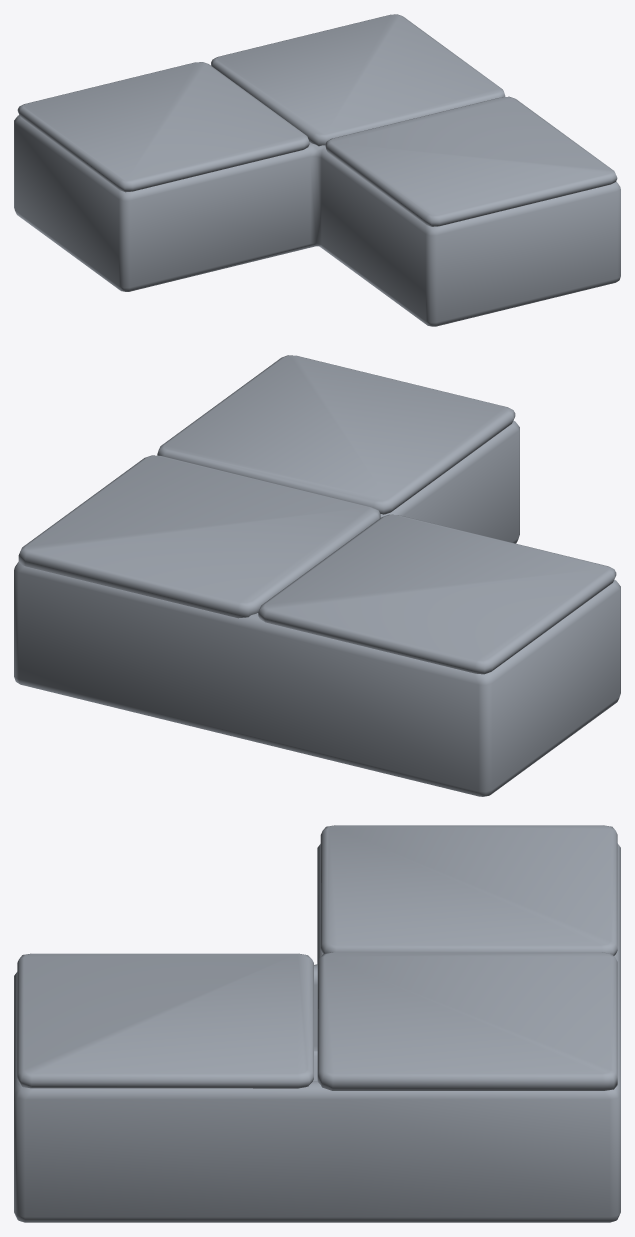
The model's file is Block-L-Gray.fbx.
3 views of the same model, one above another, from view 1: azimuth 30°, elevation 25°; view 2: azimuth 150°, elevation 25°; view 3: azimuth 270°, elevation 25° (orthographic). The views are drawn at different scales.
Visible parts, largest first — view 1: Cube.032, Block-L-Gray; view 2: Cube.032, Block-L-Gray; view 3: Cube.032, Block-L-Gray.
Part boxes in pixels (x1=…): Cube.032: x1=17, y1=14, x2=617, y2=226; Block-L-Gray: x1=14, y1=115, x2=620, y2=326; Cube.032: x1=18, y1=355, x2=616, y2=674; Block-L-Gray: x1=14, y1=420, x2=620, y2=796; Cube.032: x1=17, y1=825, x2=617, y2=1090; Block-L-Gray: x1=14, y1=843, x2=620, y2=1222.
Bounding box in the file's own units: 200 × 54.25 × 200.
